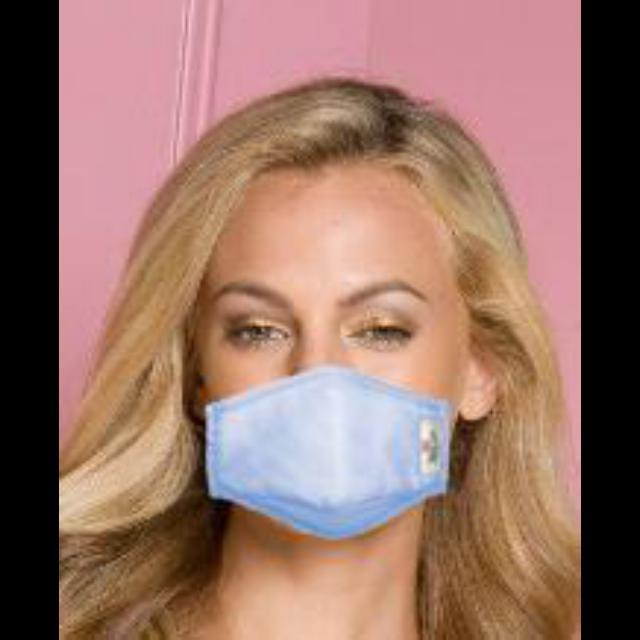suspicion: (128, 100, 544, 562)
